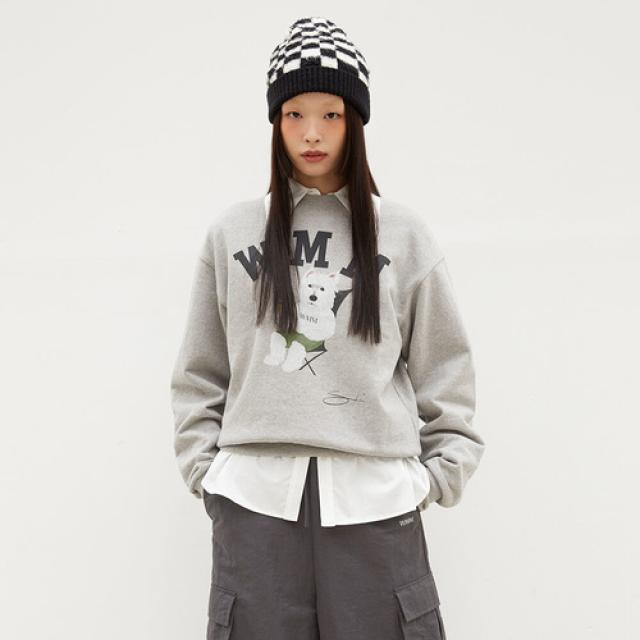dress: (176, 186, 477, 498)
